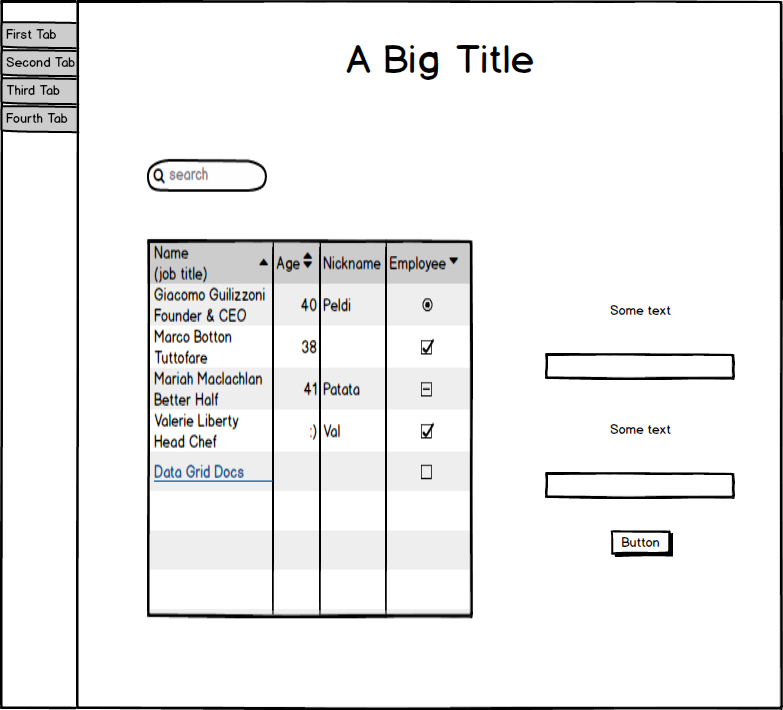button: (607, 524, 681, 561)
h1: (337, 30, 541, 86)
input: (541, 348, 741, 384), (541, 468, 742, 503)
label: (603, 295, 678, 324), (606, 418, 676, 440)
search: (144, 156, 272, 195)
sidebar: (1, 17, 82, 137)
table: (141, 231, 478, 625)
